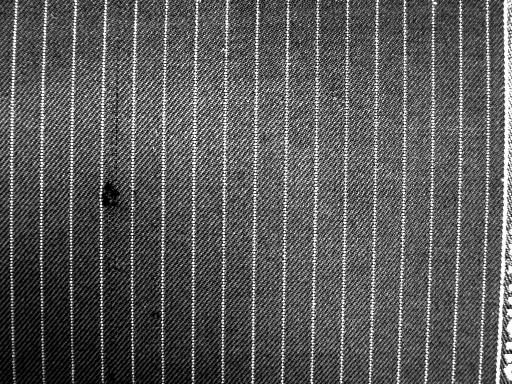fabric_hole: (79, 174, 132, 218)
